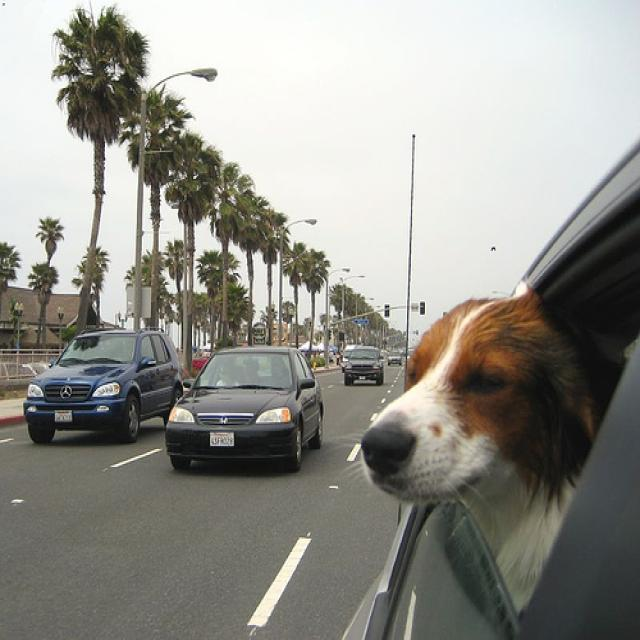Vehicle: (345, 137, 640, 638), (21, 321, 184, 447), (168, 342, 329, 466), (344, 346, 384, 386), (341, 344, 357, 373), (388, 350, 402, 366)
